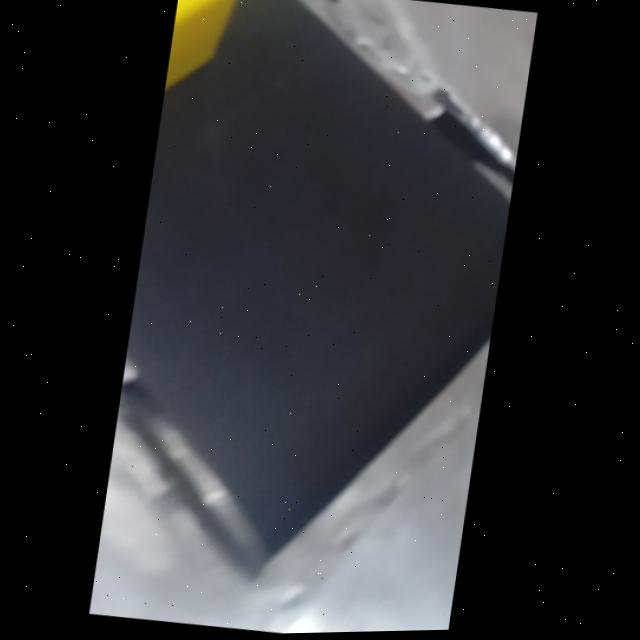yellowBox: (148, 0, 259, 217)
